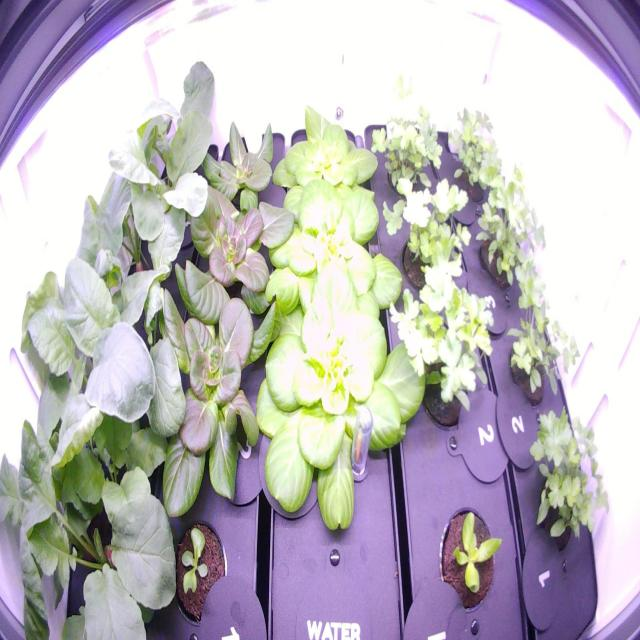young: (243, 252, 438, 540), (118, 275, 284, 526), (255, 175, 407, 335), (158, 171, 299, 319), (262, 96, 382, 214), (185, 107, 288, 223), (428, 497, 508, 618), (157, 514, 234, 629)
